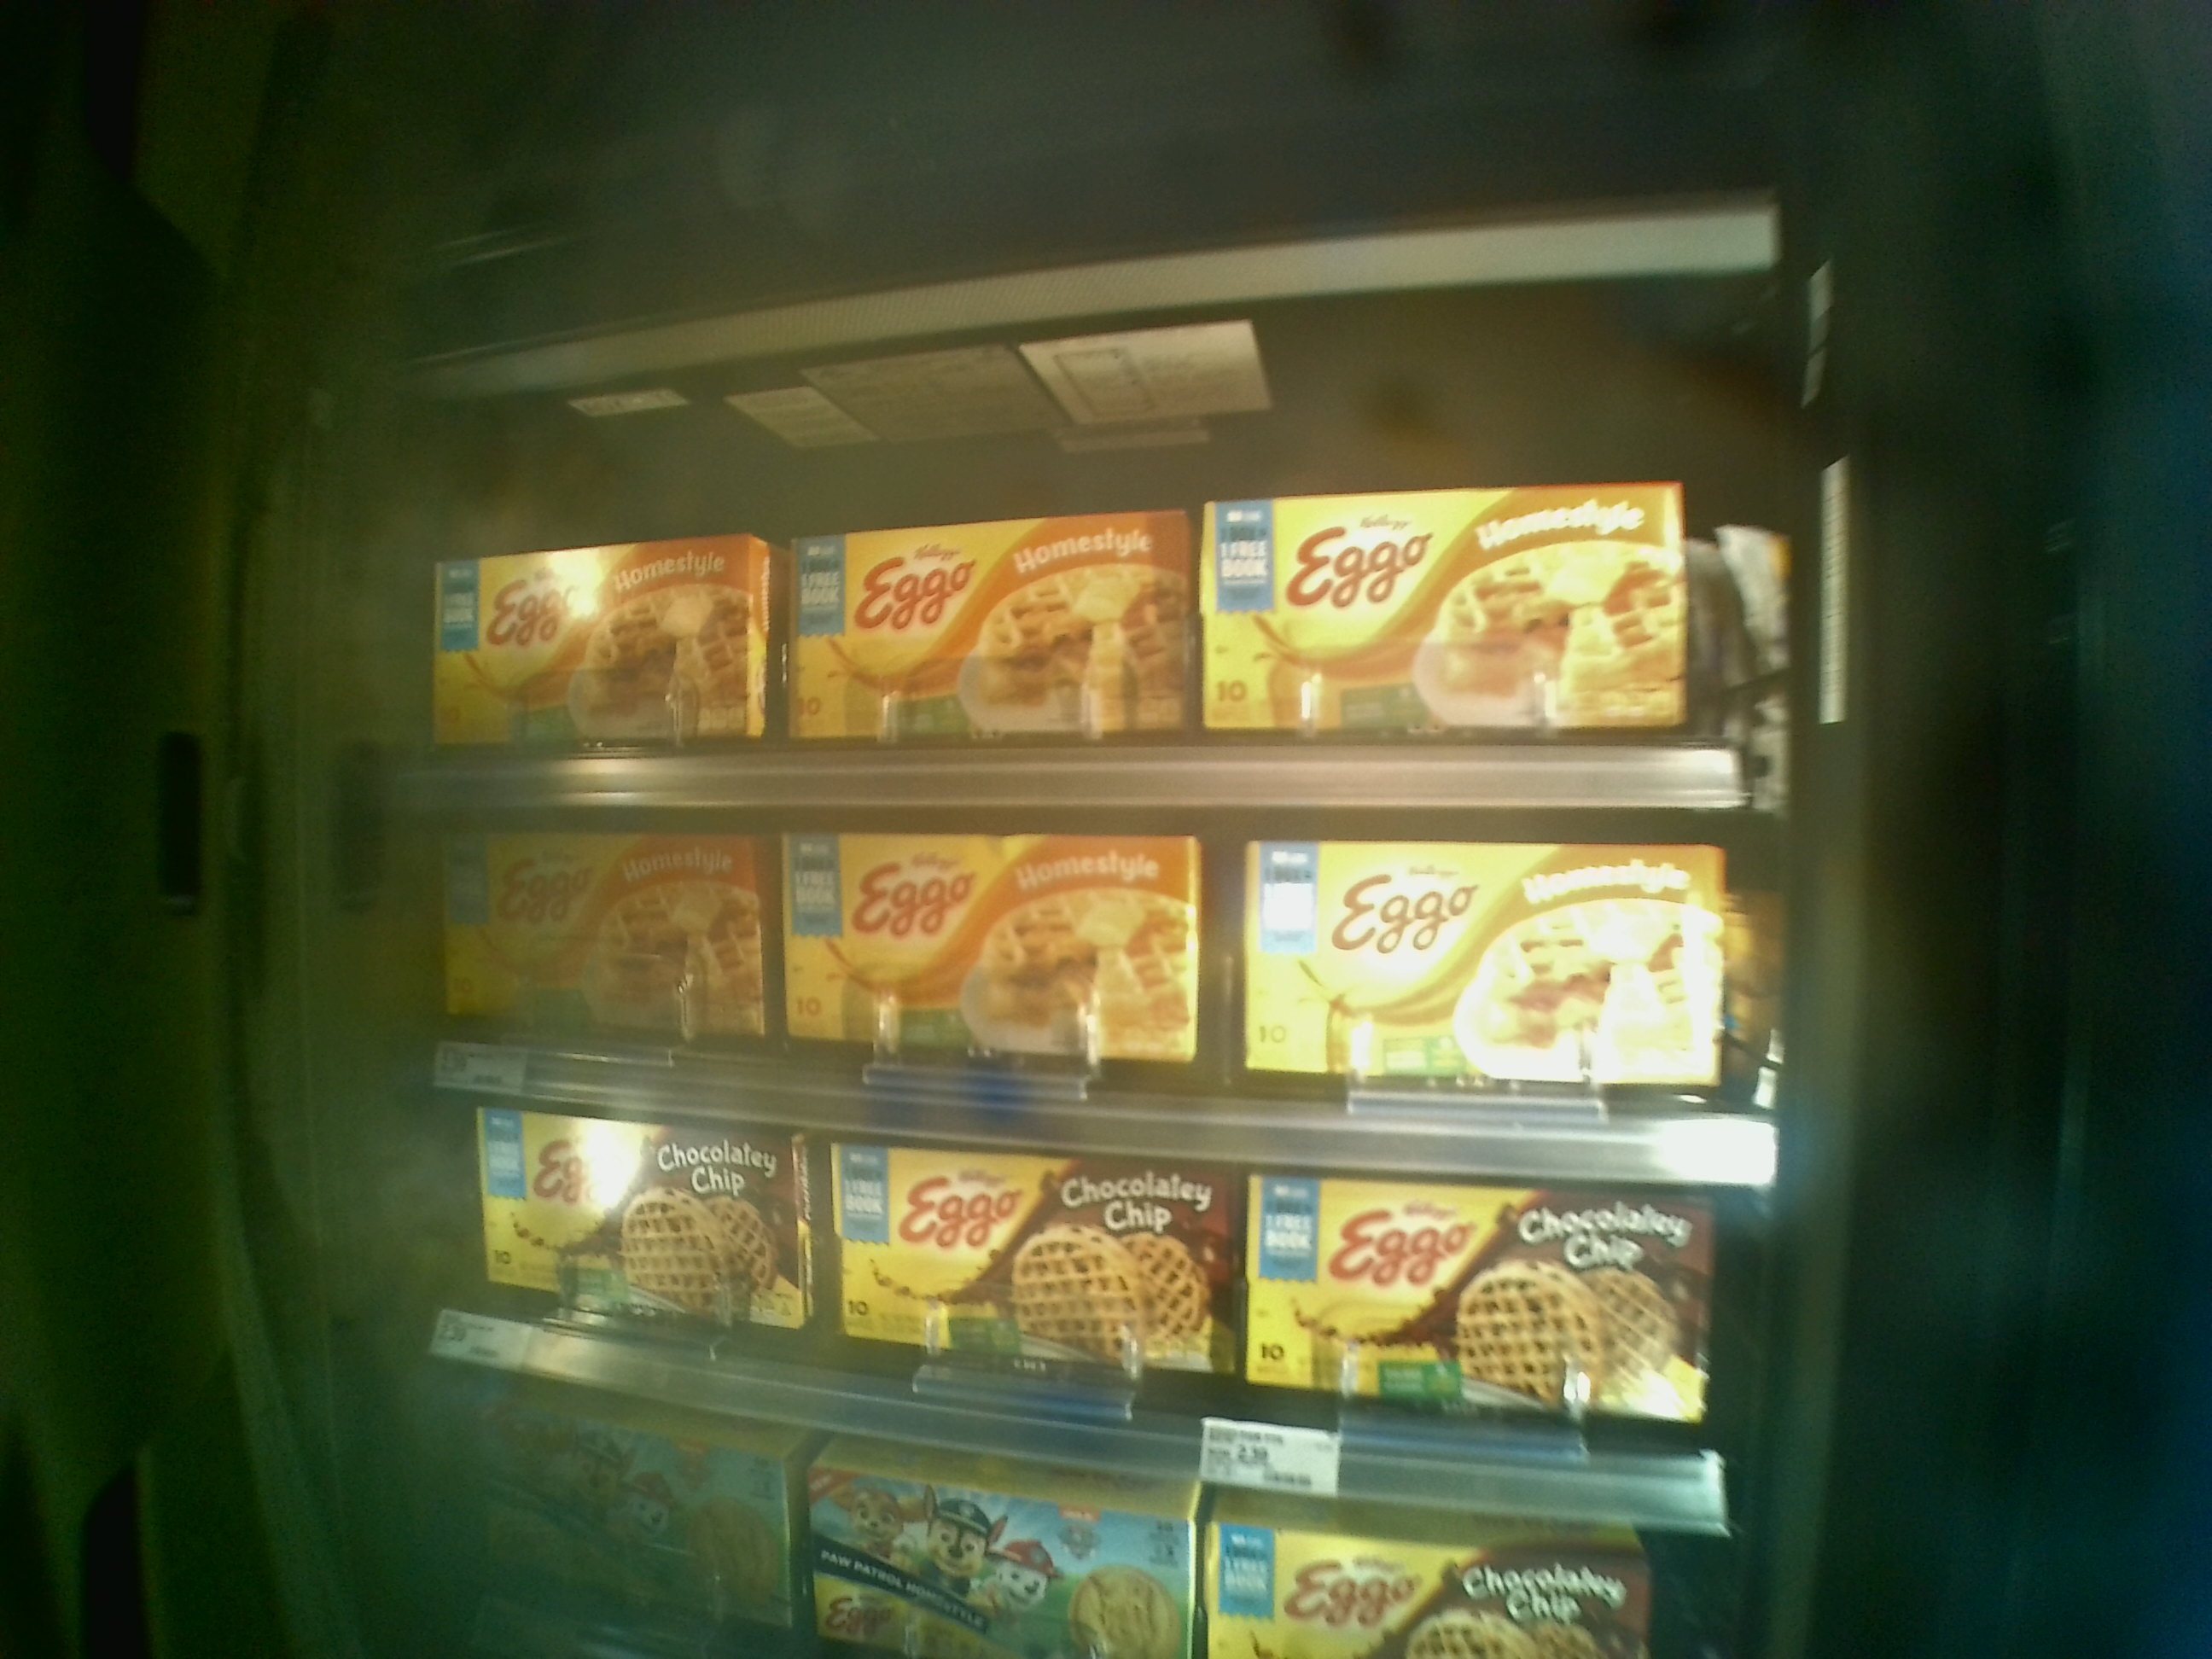frozen-food-shelf: (416, 788, 1794, 1188)
